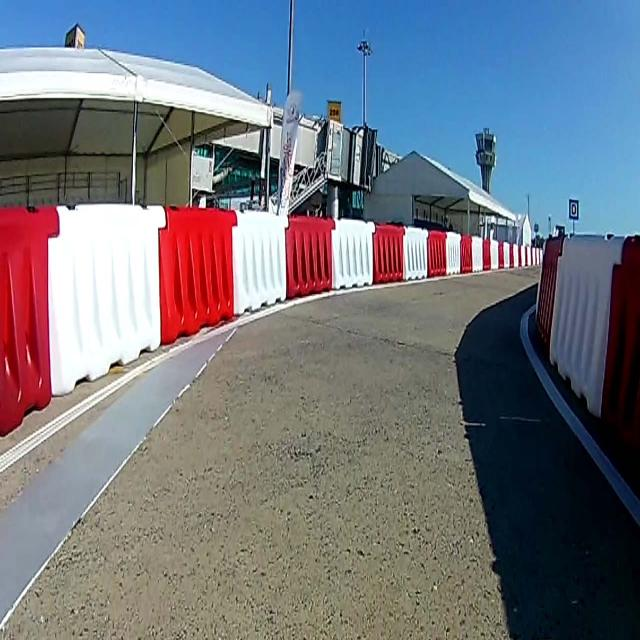durak: (568, 198, 578, 219)
